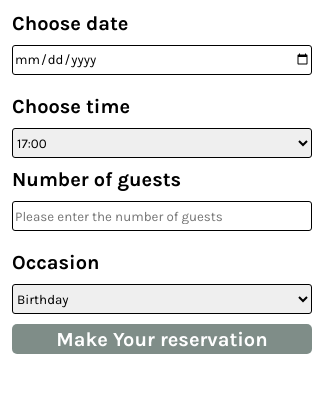
Test: The Guests field Client Side validation Working
The width and height of the screenshot is (332, 399).
In the number field with placeholder "Please enter the number of guests": (162, 216) [12,201,312,231], type "10"
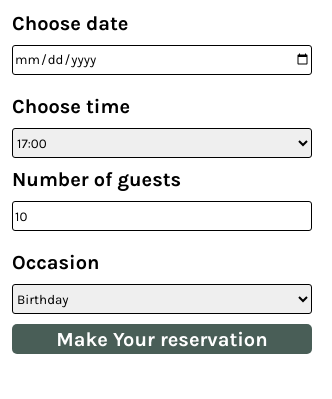
Replace the text in the number field with placeholder "Please enter the number of guests" with "20": (162, 216) [12,201,312,231]
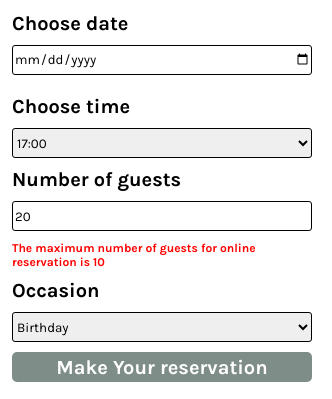
Result: the button "Make Your reservation" is disabled at [12,352,312,382]
